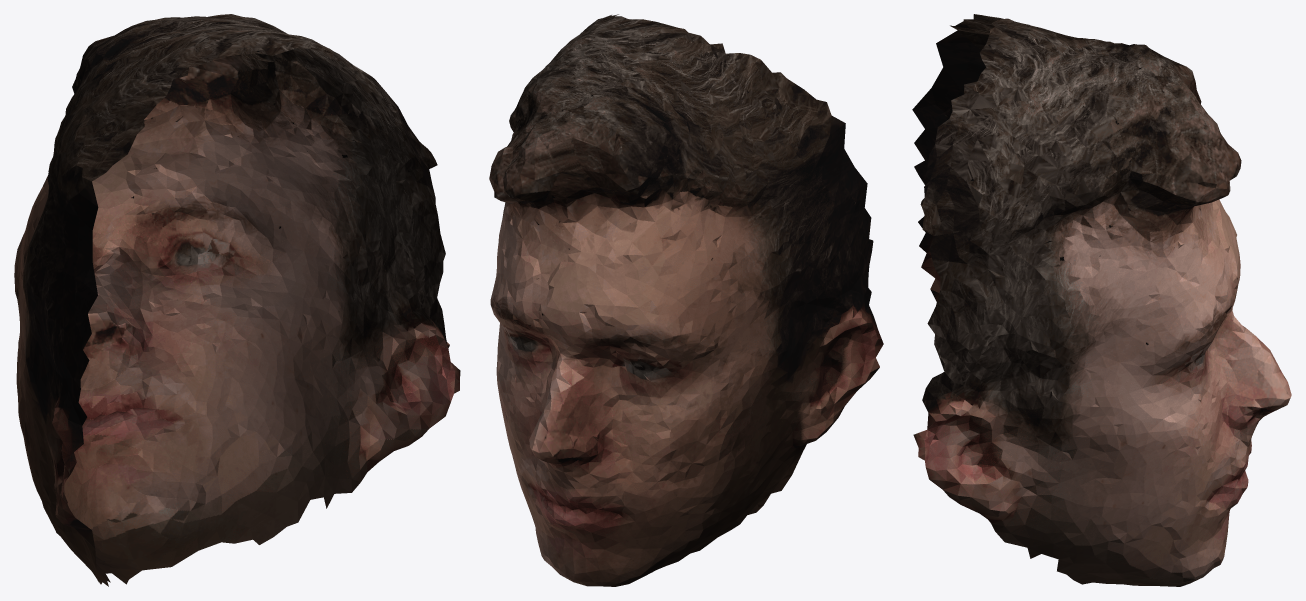
3 views of the same model, side by side, from view 1: azimuth 30°, elevation 25°; view 2: azimuth 150°, elevation 25°; view 3: azimuth 270°, elevation 25° (orthographic). The views are drawn at different scales.
Visible parts, largest first — view 1: texturedMesh; view 2: texturedMesh; view 3: texturedMesh.
Part boxes in pixels (x1,y1,x2,y2): texturedMesh: (14,14,460,586); texturedMesh: (489,14,883,586); texturedMesh: (912,14,1291,586).
Size of the model in its own units: 0.5762 by 0.8119 by 0.5106.
Materials: 1 (1 with a texture image).
